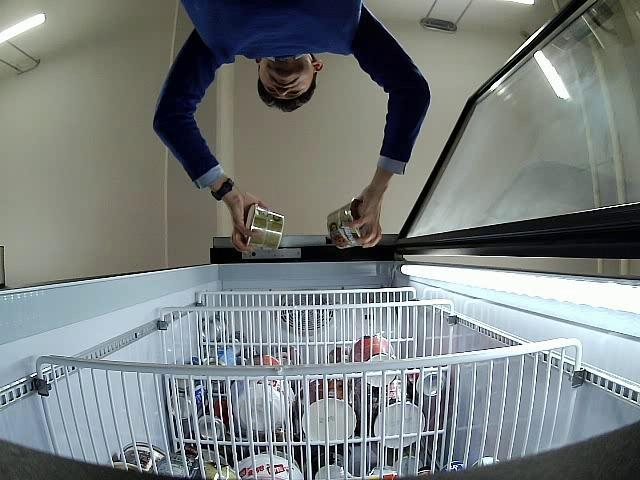03_chapagetti_L: (326, 197, 370, 249), (243, 204, 285, 250)
